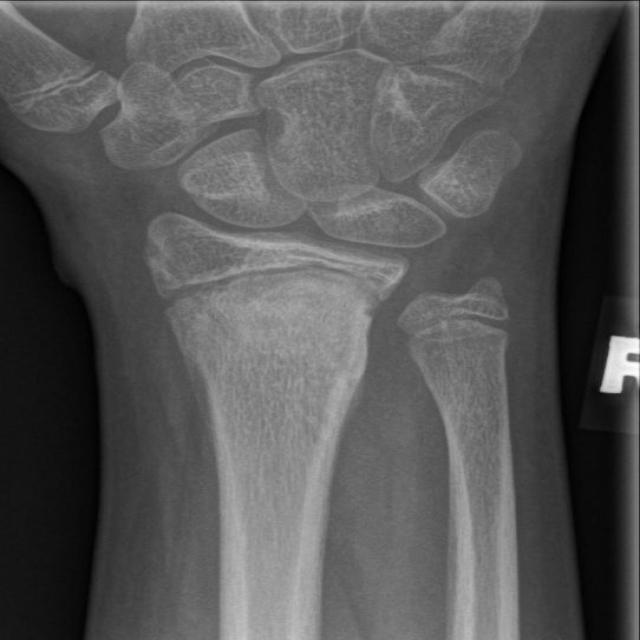fracture: (144, 240, 416, 326), (387, 297, 525, 352)
